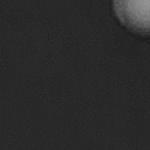colony: (107, 0, 150, 44)
